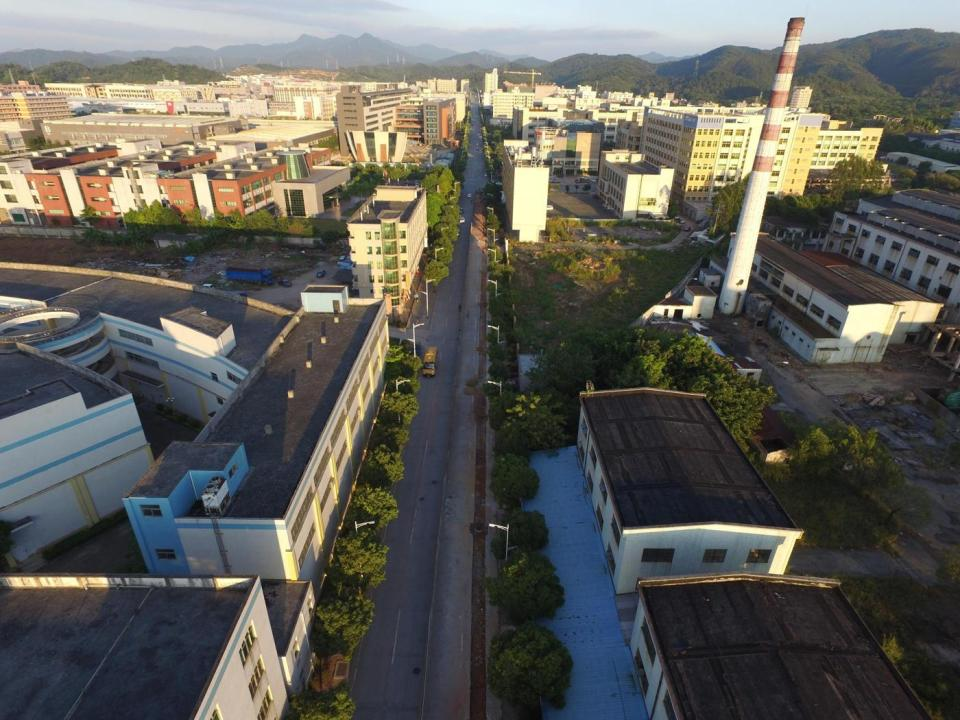bus: (422, 346, 438, 378)
car: (410, 342, 422, 356), (277, 279, 292, 287), (317, 270, 326, 278), (672, 212, 679, 219), (458, 207, 464, 215), (678, 218, 685, 224), (459, 217, 465, 223), (557, 172, 563, 178), (684, 226, 691, 231), (590, 178, 595, 183), (483, 172, 487, 178), (552, 178, 558, 182), (575, 179, 580, 183), (585, 178, 589, 183), (468, 193, 471, 198), (549, 178, 552, 182)
truck: (225, 267, 274, 286), (201, 284, 247, 302)
van: (336, 254, 346, 267), (580, 177, 584, 183), (419, 143, 422, 146)
